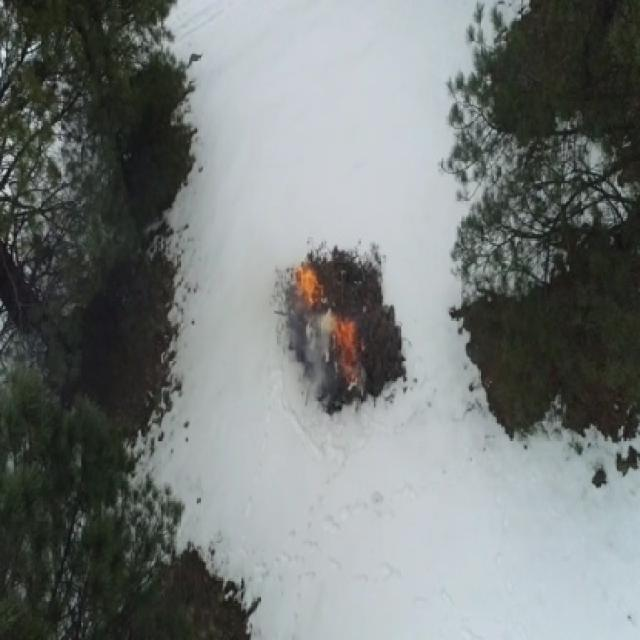Fire: (272, 238, 406, 414), (294, 269, 322, 301), (336, 316, 358, 348), (342, 346, 360, 382)
